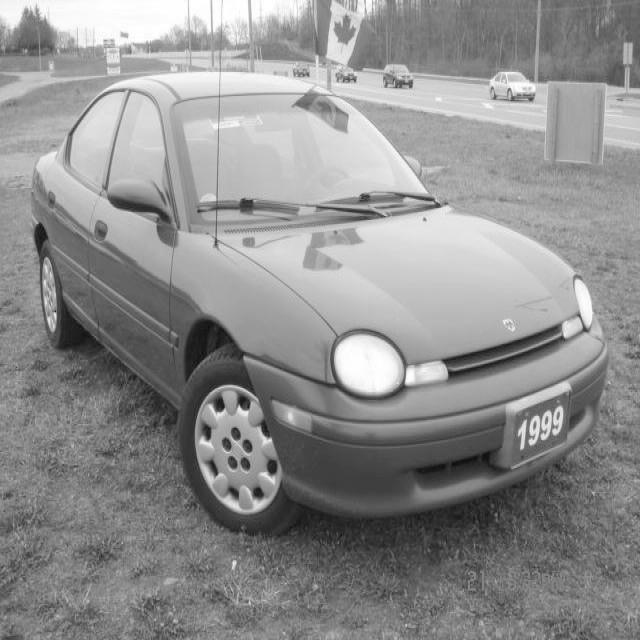car: (12, 55, 627, 539), (488, 71, 536, 101), (382, 63, 413, 88), (335, 64, 357, 83), (292, 60, 310, 77)
plat_license: (498, 392, 582, 472)
